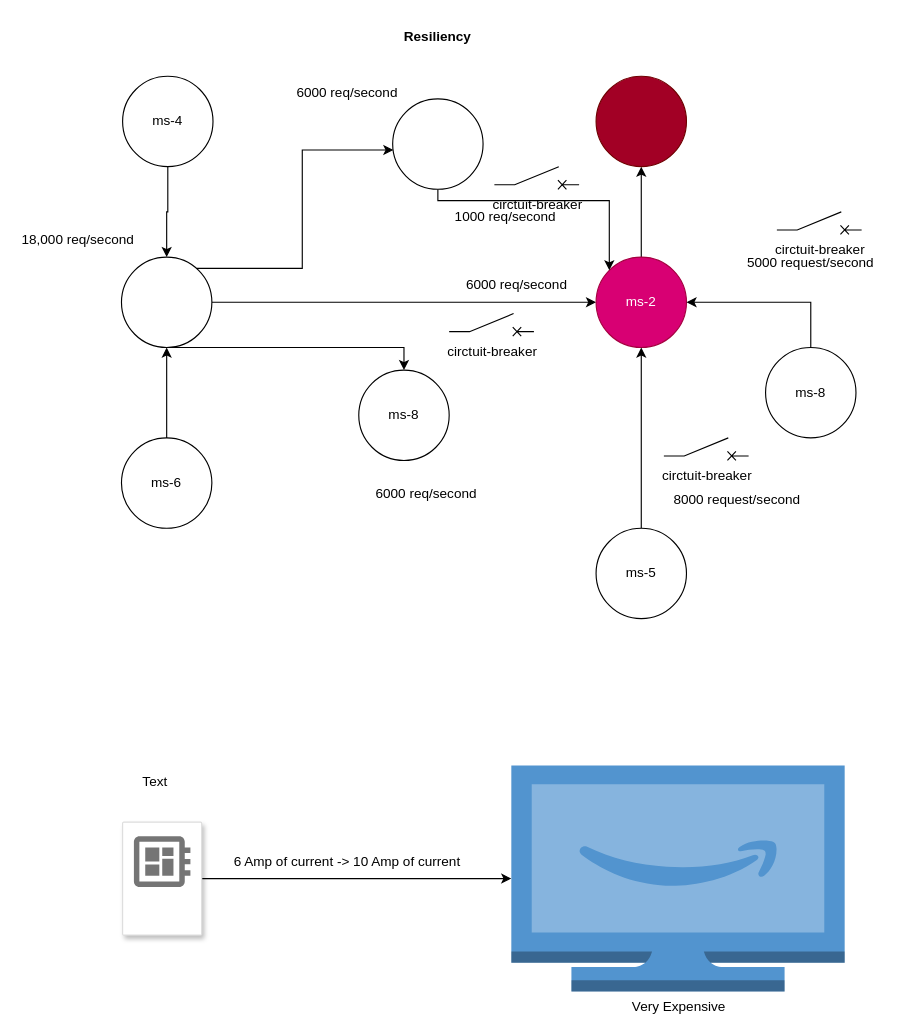
This 903x1034 diagram has some shape labels left out. The centre of each missing label's shape, as x and y in pixels:
Circuit-Board: pixel 162 879
ms-1: pixel 166 301
ms-3: pixel 640 121
ms-7: pixel 437 143
